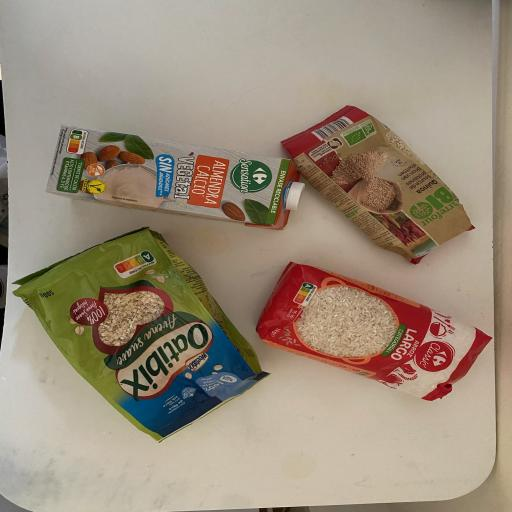almond_milk: (41, 122, 307, 231)
oats: (13, 222, 271, 448)
quinoa: (280, 103, 477, 268)
rice: (254, 258, 494, 410)
